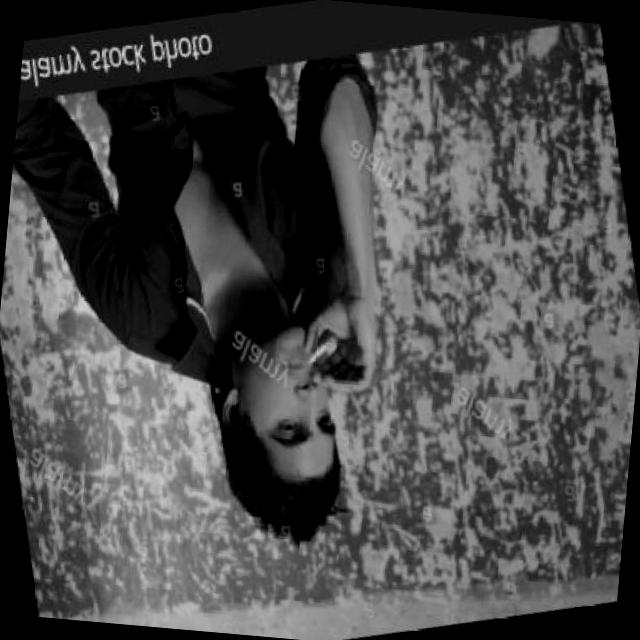cigarette: (300, 328, 343, 368)
